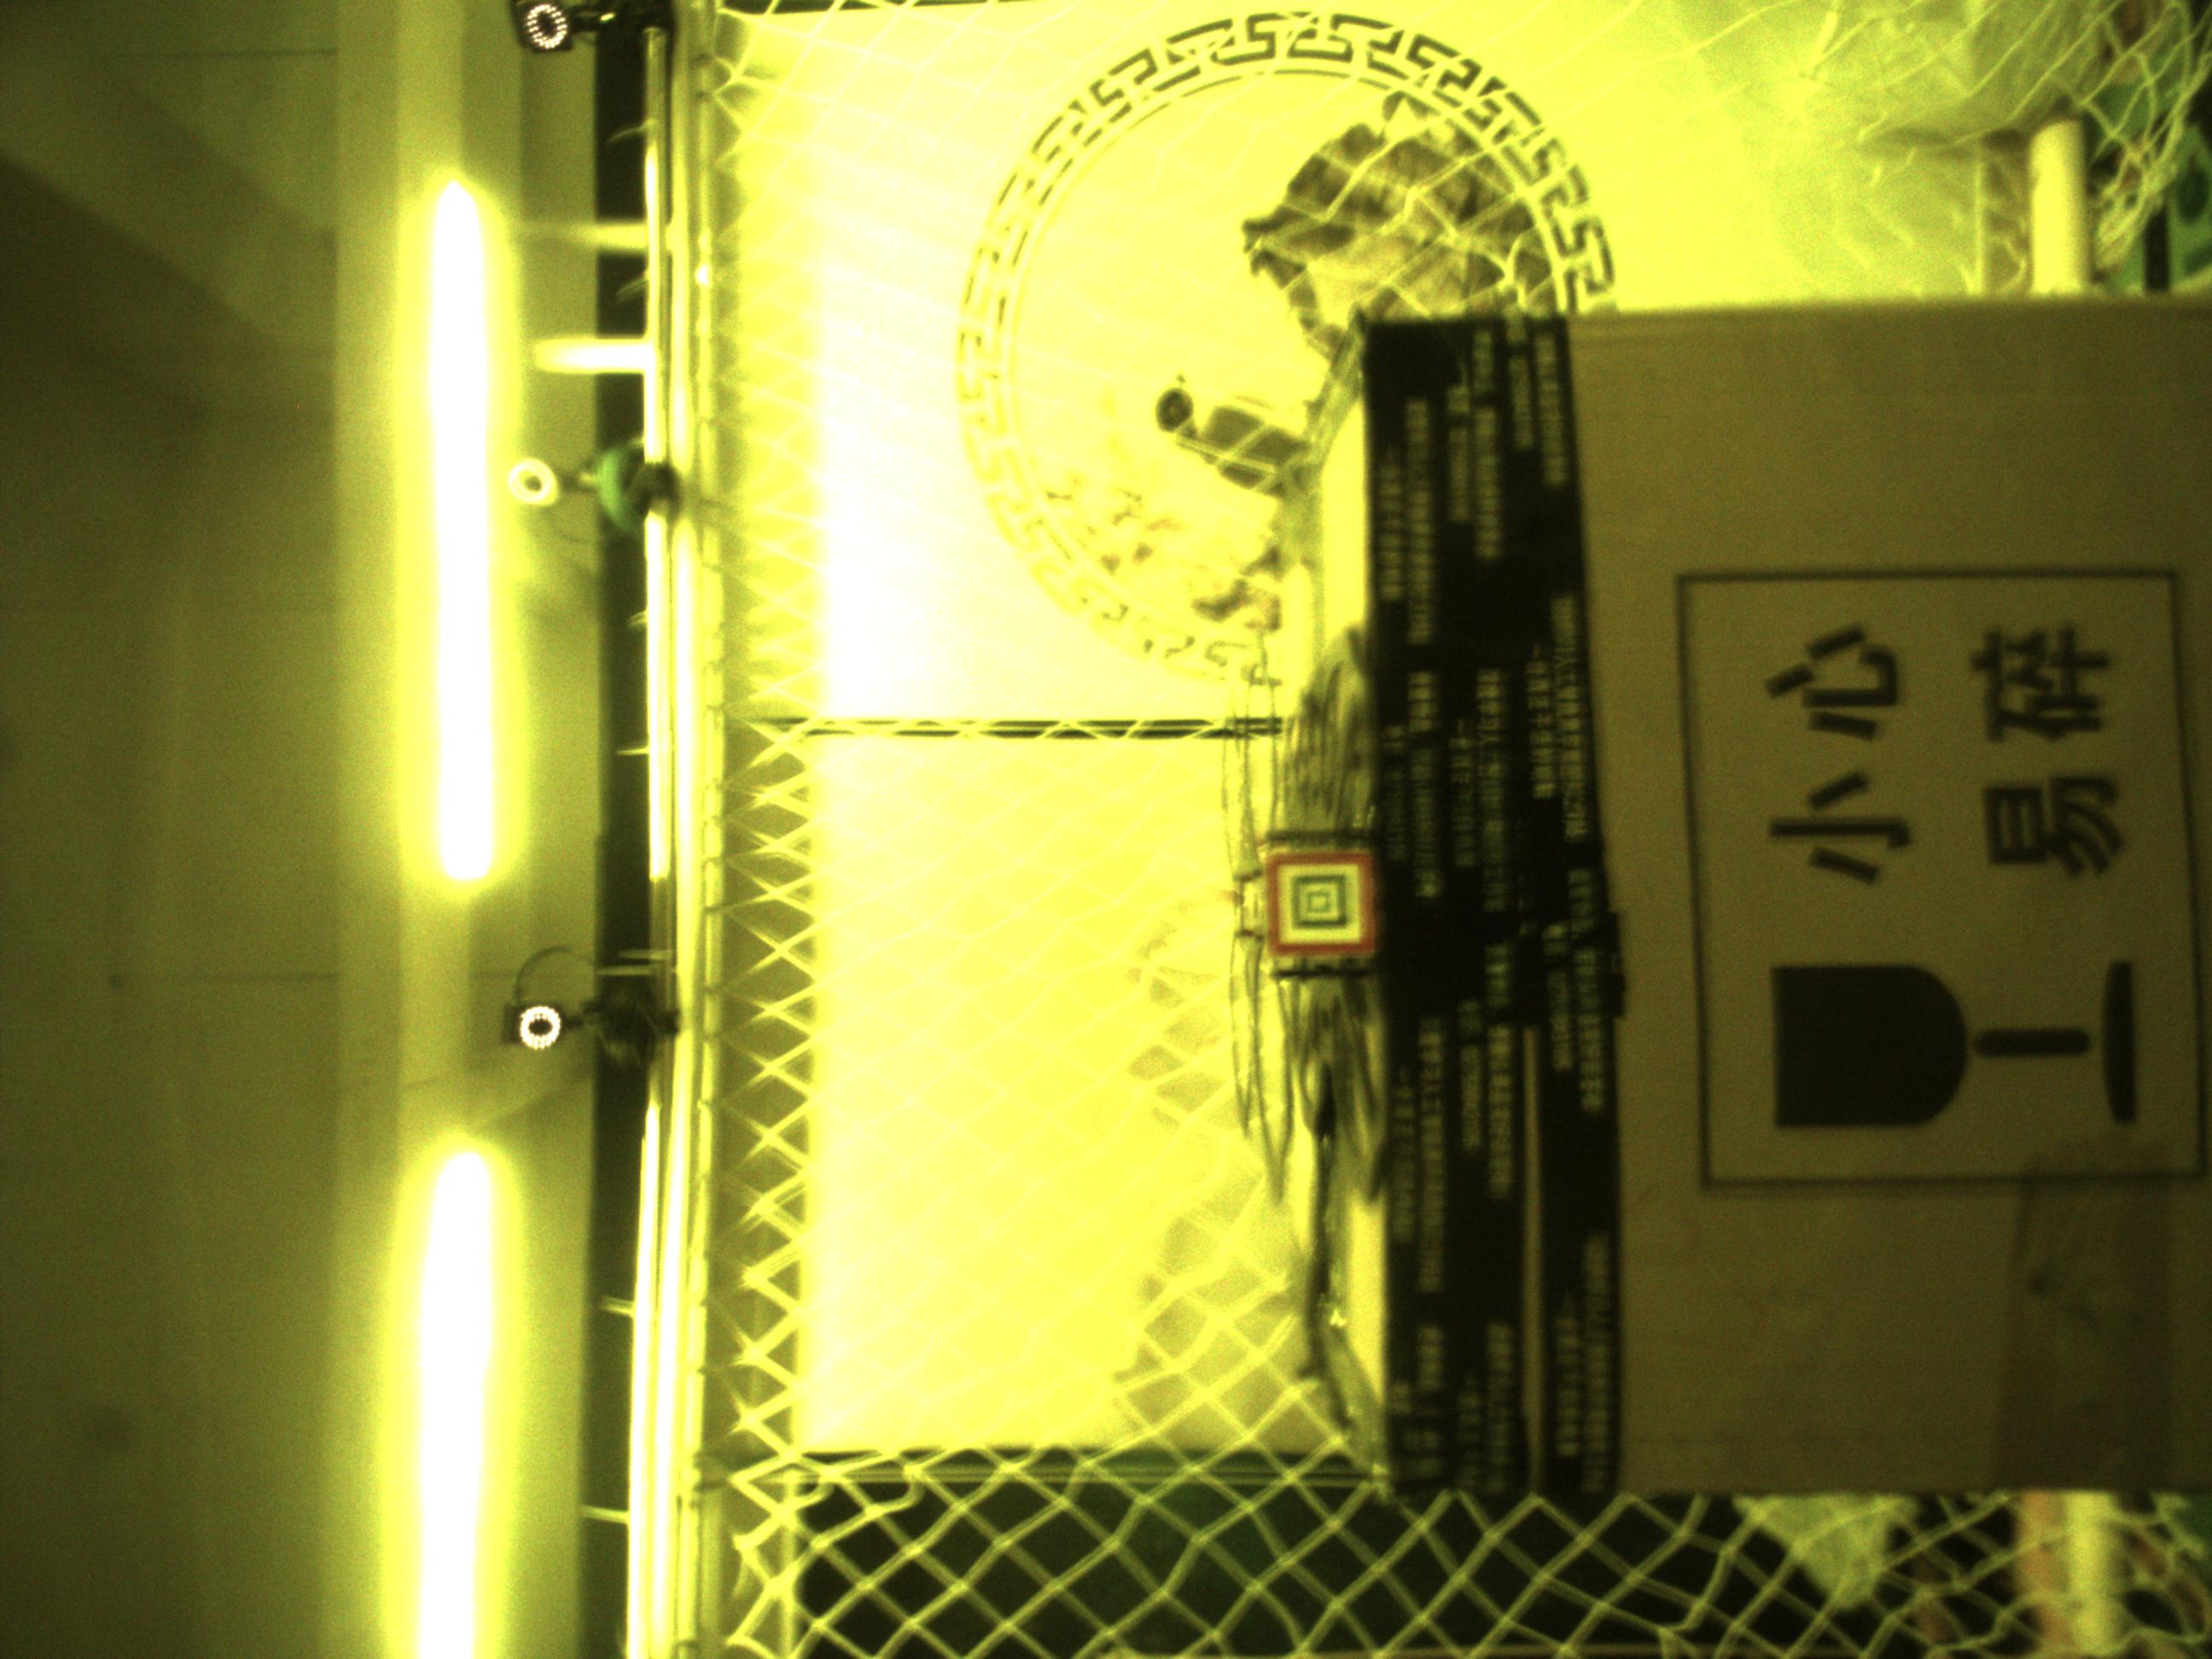outline: (1266, 852, 1378, 957)
